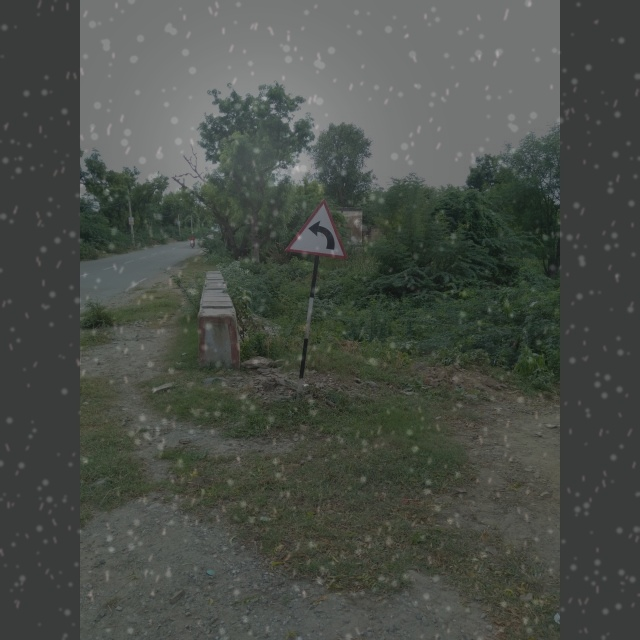Left_Hand_Curve: (284, 199, 353, 266)
